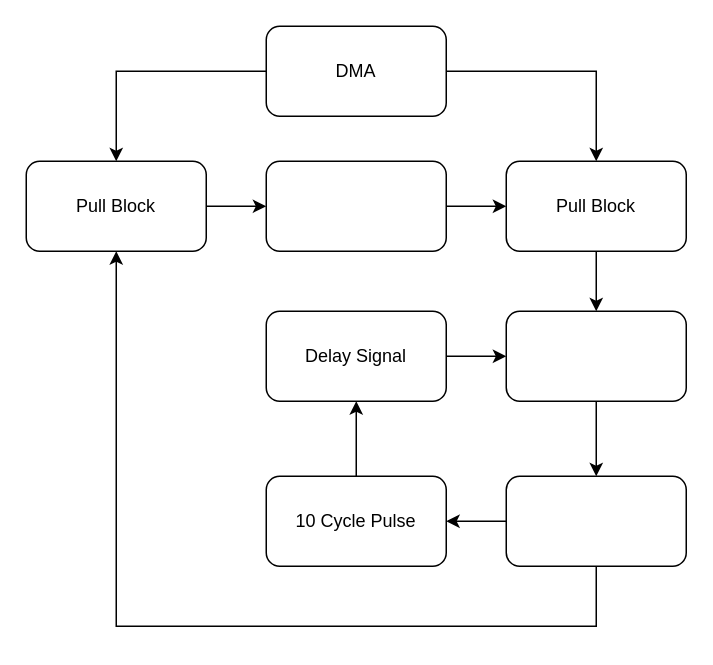
This 713x665 diagram has some shape labels left out. Here are the shapes that lost their labels. From the top down, the box of each, then its label:
(265, 160, 446, 251): Store Pulse Reps
(505, 310, 686, 401): Store Delay
(505, 475, 686, 566): Check Reps
